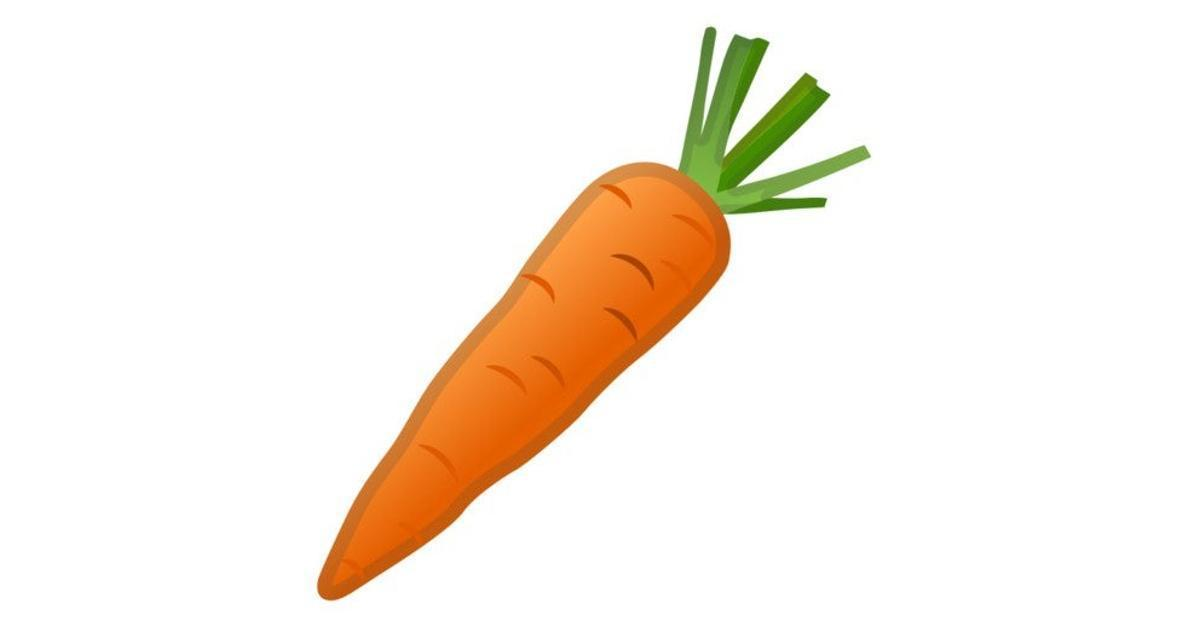carrot: (311, 163, 781, 629)
